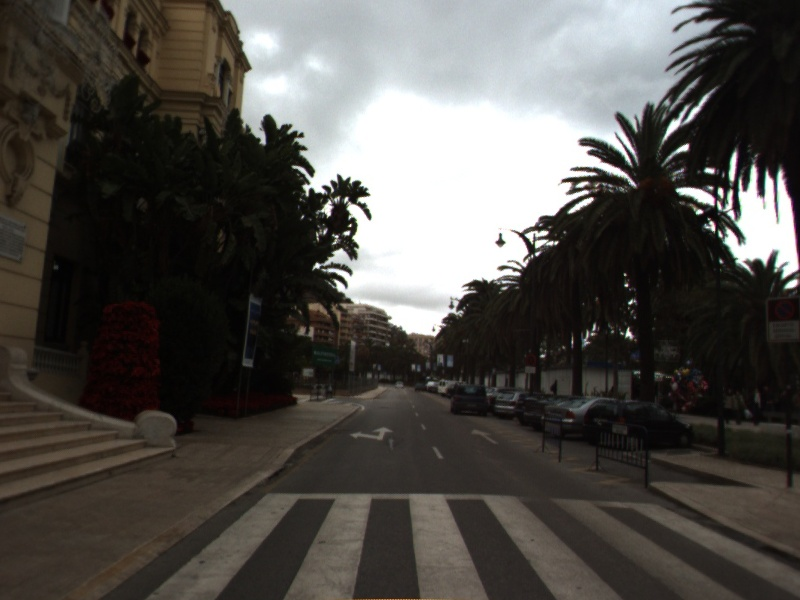STRAIGHT: (469, 427, 500, 446)
STRAIGHT_LEFT: (348, 424, 396, 442)
